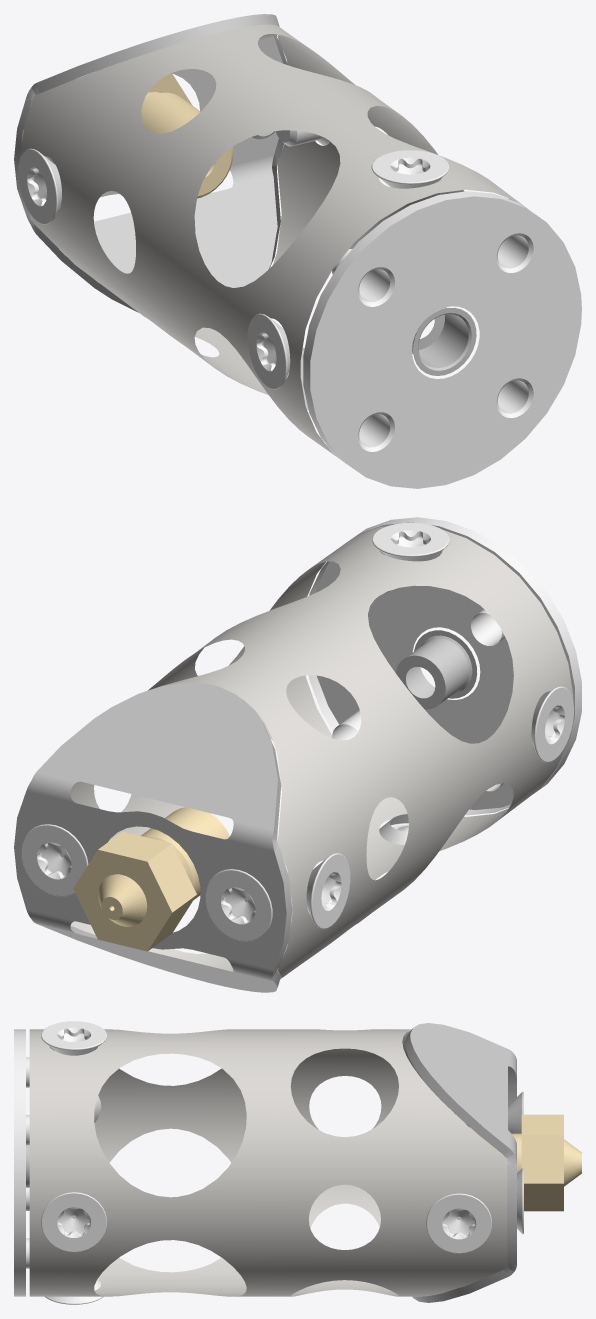
The model's file is chube-compact.gltf.
3 views of the same model, one above another, from view 1: azimuth 30°, elevation 25°; view 2: azimuth 150°, elevation 25°; view 3: azimuth 270°, elevation 25° (orthographic). The views are drawn at different scales.
Parts seen in each view (by area): view 1: Shroud, Sink, Shield, 90236A117_NO THREADS_Zinc-Plated Steel Torx Flat Head Screws (×4), Chalice, E3D V6 Nozzle (0.4mm) v3; view 2: Shroud, Shield, Sink, 90236A117_NO THREADS_Zinc-Plated Steel Torx Flat Head Screws (×6), E3D V6 Nozzle (0.4mm) v3, Chalice; view 3: Shroud, Shield, 90236A117_NO THREADS_Zinc-Plated Steel Torx Flat Head Screws (×6), E3D V6 Nozzle (0.4mm) v3, Sink.
Part boxes in pixels (x1,y1,x2,y2): Shroud: [19, 24, 527, 457]; Sink: [303, 191, 581, 488]; Shield: [14, 14, 287, 312]; 90236A117_NO THREADS_Zinc-Plated Steel Torx Flat Head Screws (×4): [18, 130, 448, 389]; Chalice: [412, 307, 476, 375]; E3D V6 Nozzle (0.4mm) v3: [141, 73, 233, 198]; Shroud: [70, 526, 573, 978]; Shield: [14, 682, 292, 992]; Sink: [308, 517, 581, 815]; 90236A117_NO THREADS_Zinc-Plated Steel Torx Flat Head Screws (×6): [21, 522, 573, 941]; E3D V6 Nozzle (0.4mm) v3: [73, 807, 229, 951]; Chalice: [395, 630, 477, 709]; Shroud: [29, 1029, 507, 1296]; Shield: [404, 1023, 516, 1302]; 90236A117_NO THREADS_Zinc-Plated Steel Torx Flat Head Screws (×6): [41, 1021, 523, 1304]; E3D V6 Nozzle (0.4mm) v3: [470, 1114, 581, 1211]; Sink: [14, 1029, 29, 1296].
Bounding box in the file's own units: 0.024 × 0.0235 × 0.0472.
